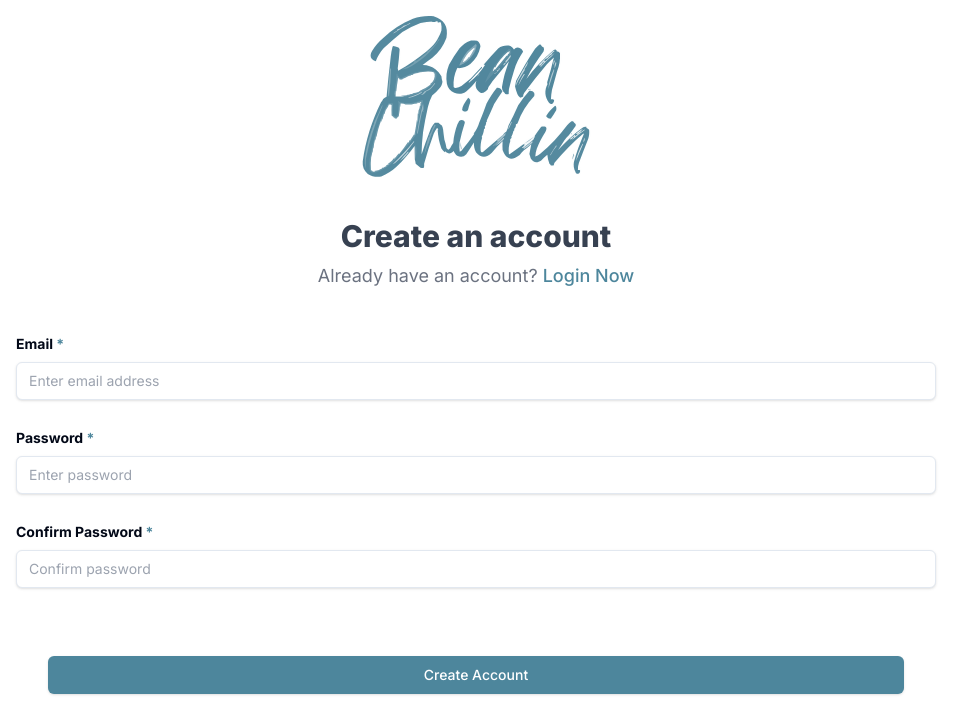
Scenario: SignUpForm › does not submit the form when the fields are empty
The width and height of the screenshot is (953, 712).
Note: Simulate form submission without providing any input
Click the button "Create Account": (476,675) [48,656,904,694]
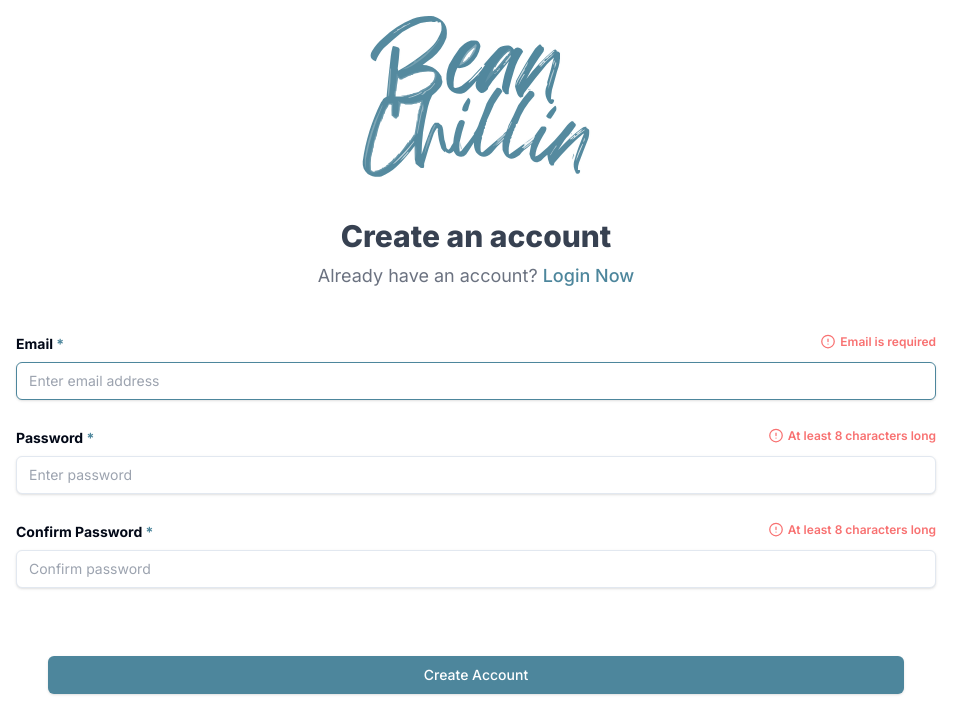
expect the text "Email is required" is shown: met, box [816,334,936,349]
expect the text "At least 8 characters long" is shown 2 times: met, box [764,428,936,443]; [764,522,936,537]
